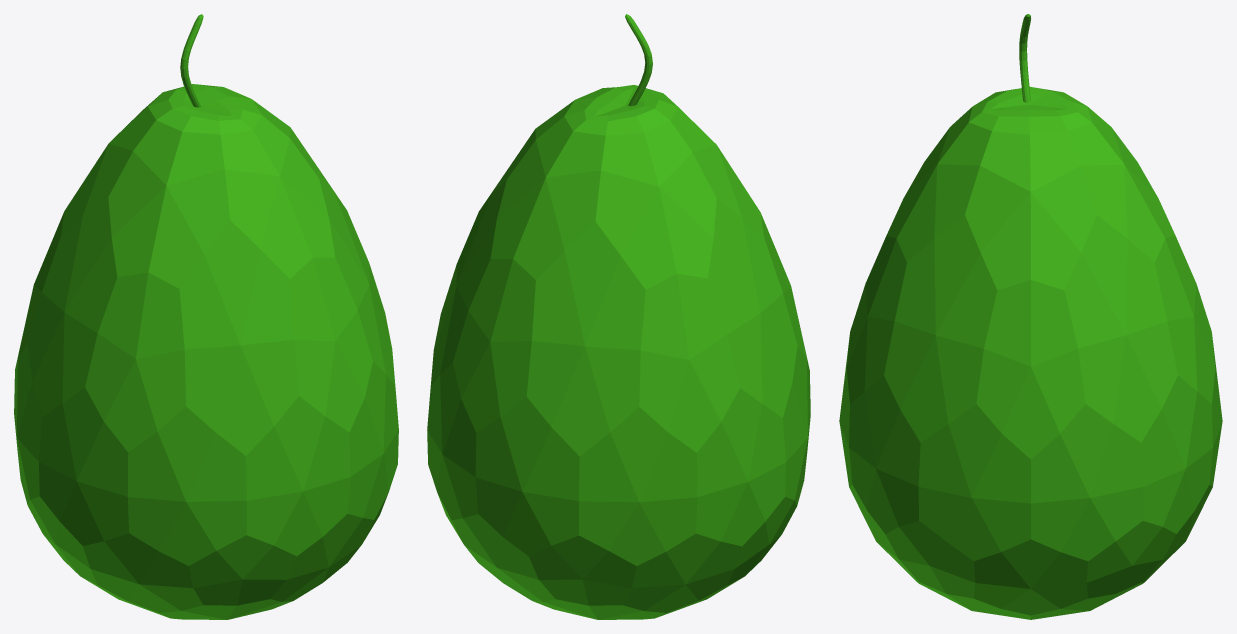
Rendered from armut.fbx.
3 views of the same model, side by side, from view 1: azimuth 30°, elevation 25°; view 2: azimuth 150°, elevation 25°; view 3: azimuth 270°, elevation 25° (orthographic).
Parts seen in each view (by area): view 1: Icosphere; view 2: Icosphere; view 3: Icosphere.
Part boxes in pixels (x1,y1,x2,y2): Icosphere: (14,14,398,619); Icosphere: (427,14,810,619); Icosphere: (839,14,1222,619).
Bounding box in the file's own units: 159 × 270 × 160.
